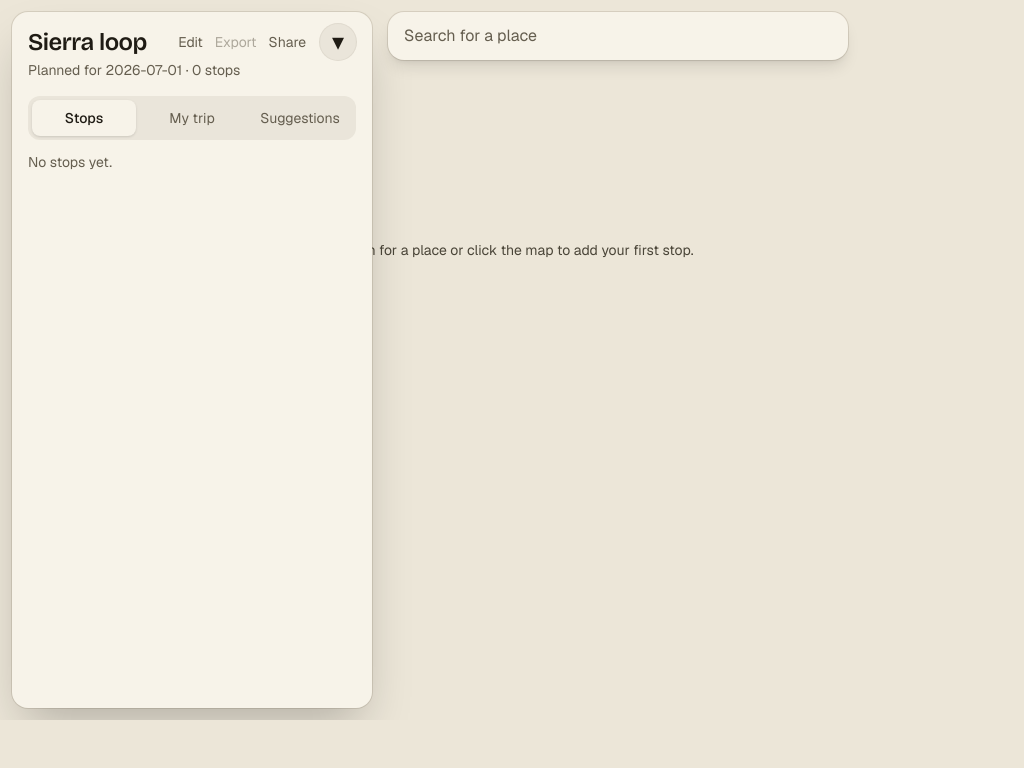
Test: TripEditor › asks for stops and skips routing until there are two
Click the tab "My trip": [192, 118] box x1=140 y1=100 x2=244 y2=136
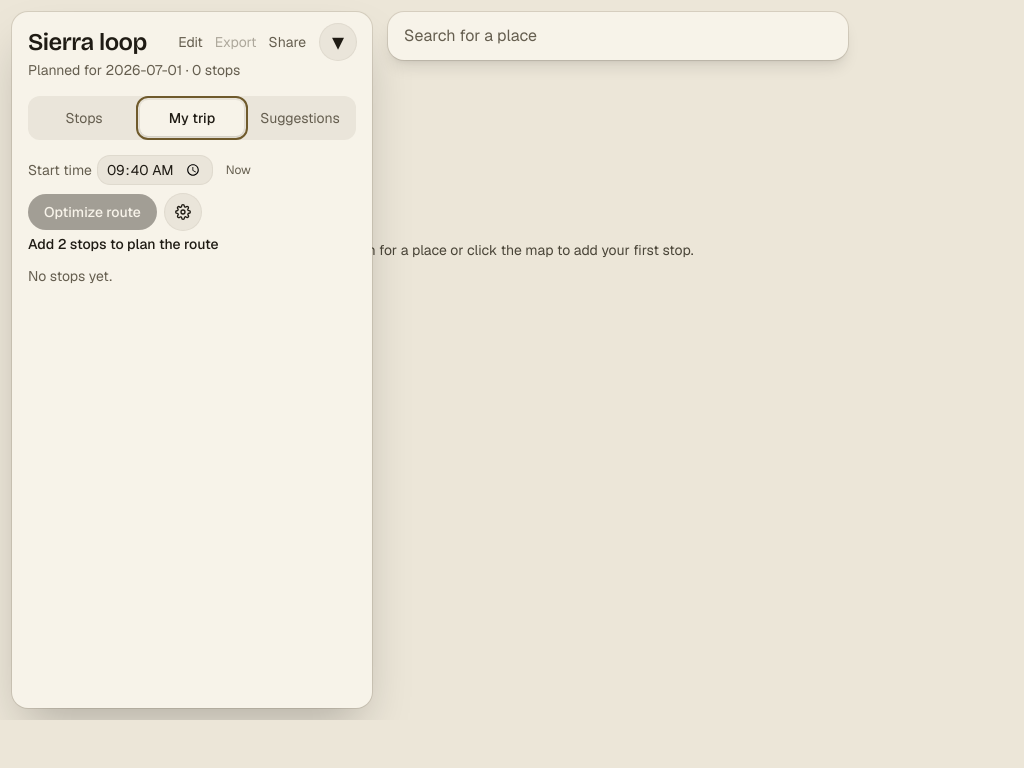
Expected: the text with test id "empty-hint" reads "Search for a place or click the map to add your first stop.", x1=330 y1=241 x2=694 y2=259
Expected: the text with test id "route-status" reads "Add 2 stops to plan the route", x1=28 y1=235 x2=219 y2=253
